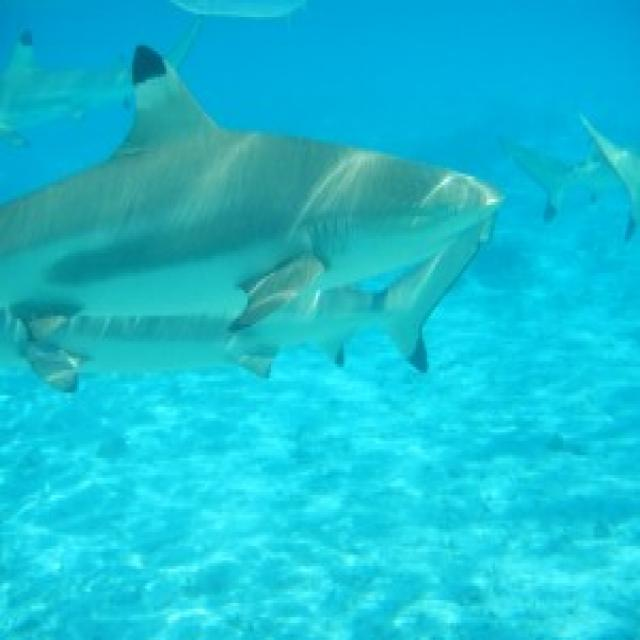Shark: (0, 42, 505, 413)
